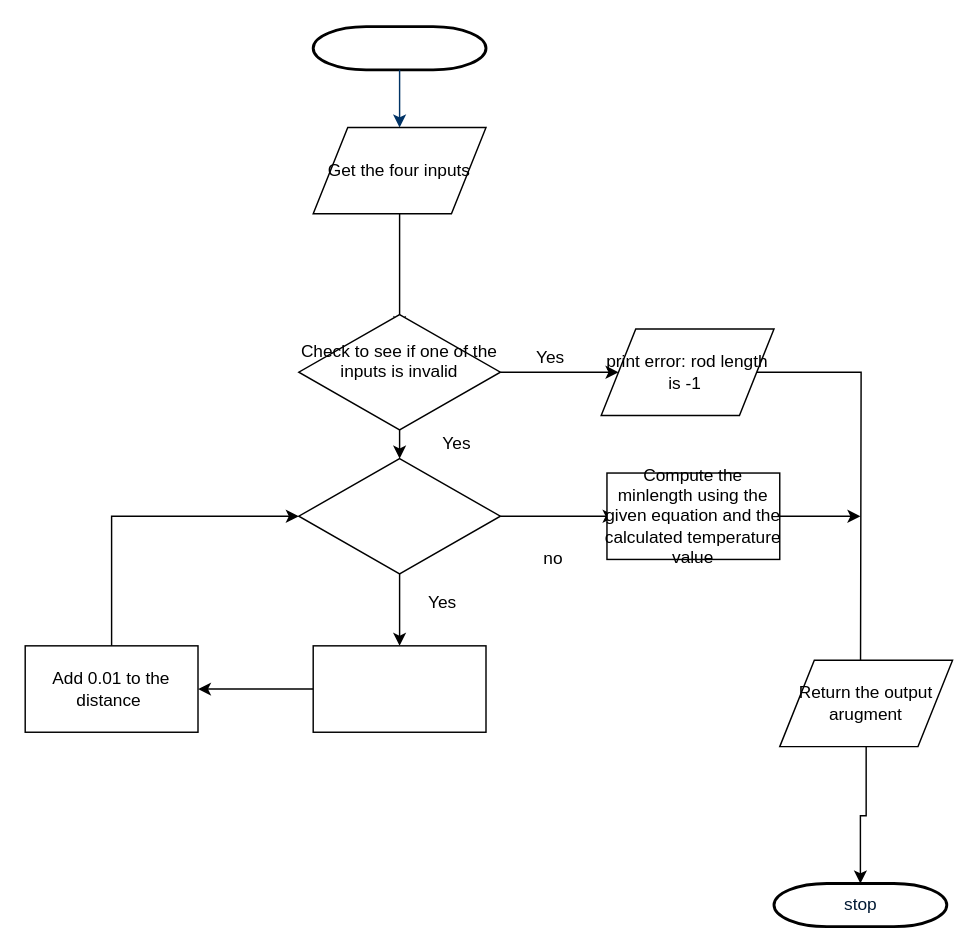
Some shapes in this 978 by 952 pixel diagram are drawn without their labels. Each missing label, with the centre of its shape:
"Compute the new Temperature and round the value" goes at point 399,688.
"Is Temperature from heat source > ambient air temperature" goes at point 398,515.
"start" goes at point 399,47.
